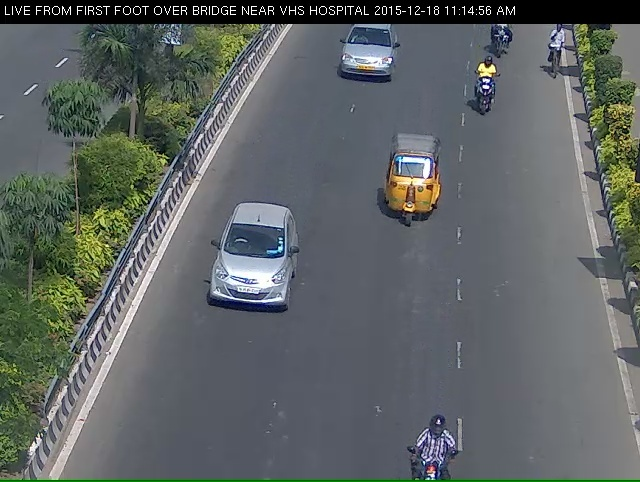Auto: (378, 135, 444, 244)
Car: (200, 217, 293, 346), (332, 25, 396, 90)
Person: (467, 63, 502, 124), (542, 21, 567, 77), (486, 22, 513, 60)
